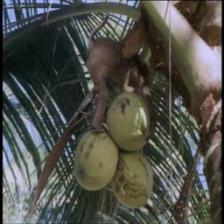monkey: (137, 74, 161, 105)
